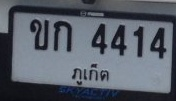txt01: (52, 20, 73, 53)
txt02: (29, 18, 50, 51)
